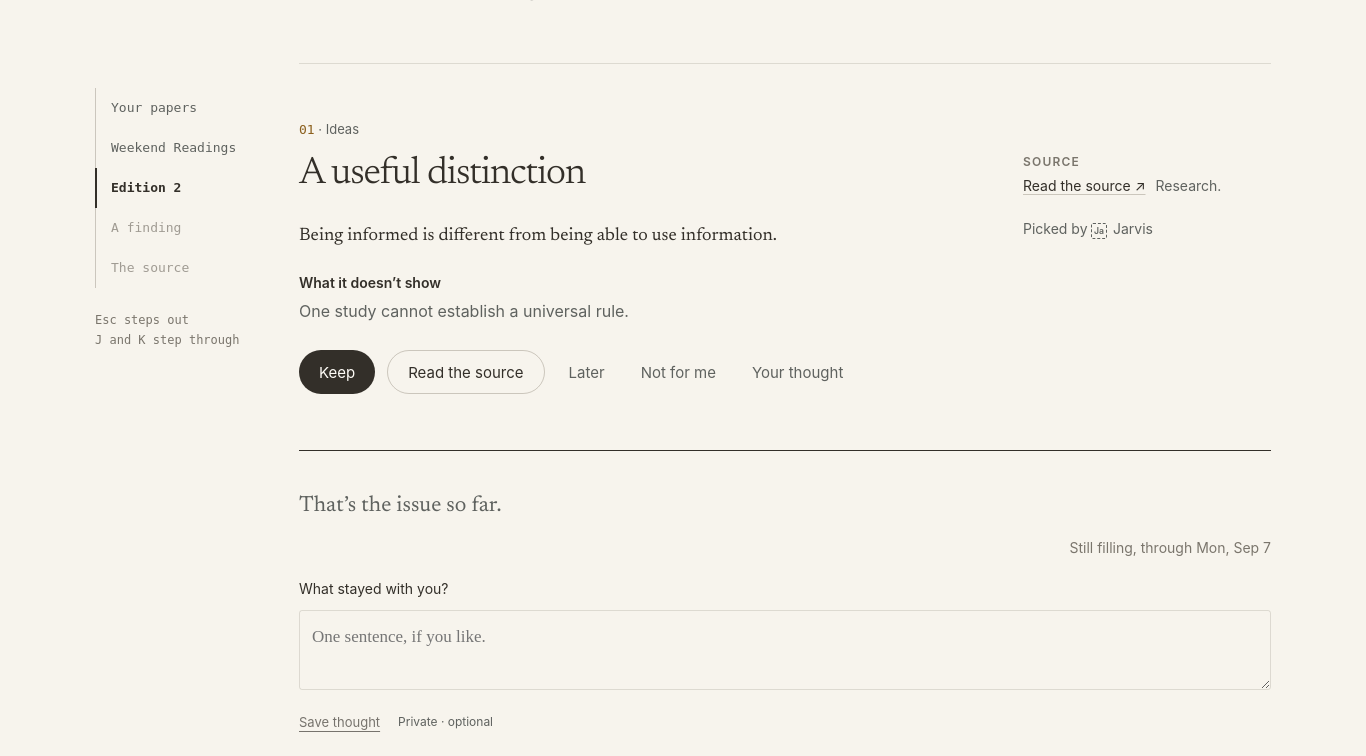
it: sets a finding aside with Not for me, and Undo brings it back
The width and height of the screenshot is (1366, 756).
(page scrolled)
Expected: the text "Being informed is different from being able to use information." is shown, [299, 227, 777, 245]
Click the button "Not for me": (678, 372) [629, 350, 728, 394]
(page scrolled)
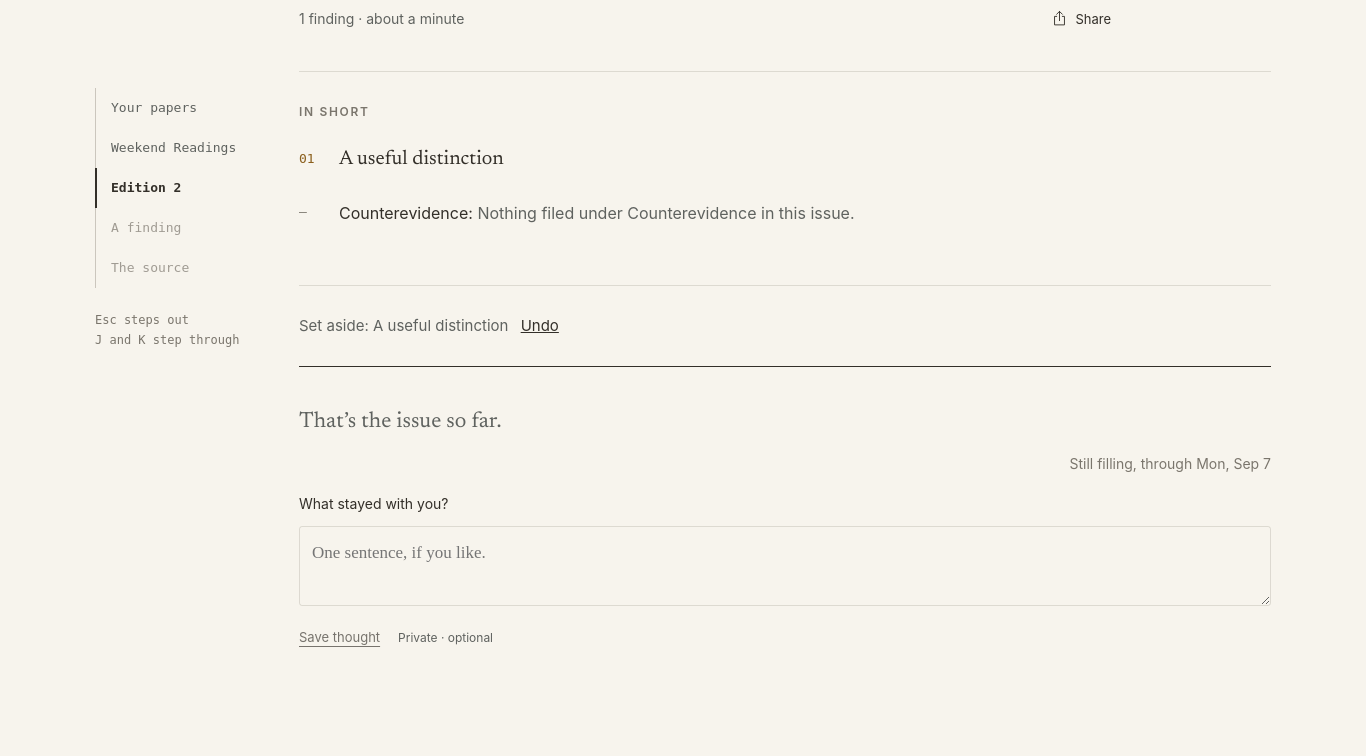
Expected: the text "Being informed is different from being able to use information." is gone
Click the button "Undo": (536, 326) [513, 304, 559, 348]
(page scrolled)
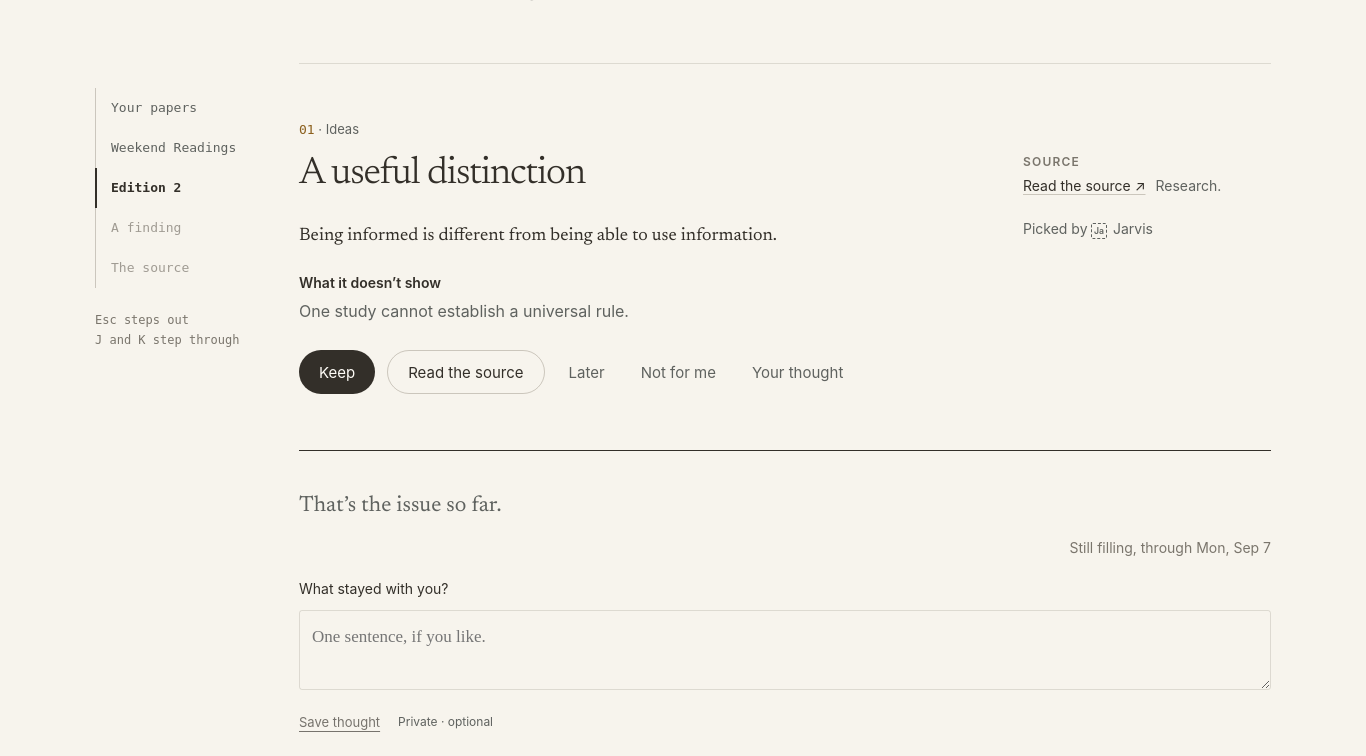
Expected: the text "Being informed is different from being able to use information." is shown, [299, 227, 777, 245]
